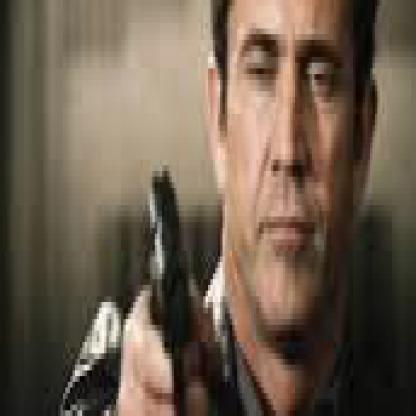gun: (334, 143, 414, 257)
